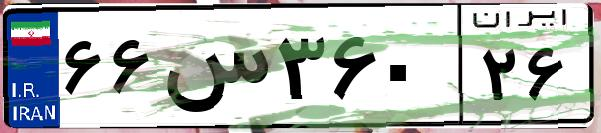0: (385, 28, 445, 110)
2: (475, 38, 525, 113)
3: (270, 28, 330, 110)
6: (330, 28, 385, 110), (57, 26, 110, 100), (525, 38, 570, 115), (110, 28, 158, 98)
س: (158, 20, 270, 120)
